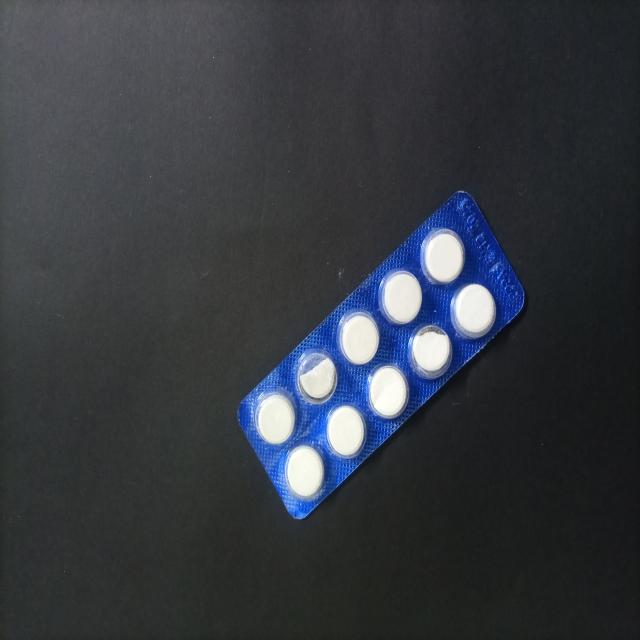defect: (294, 347, 340, 408), (408, 323, 453, 380)
